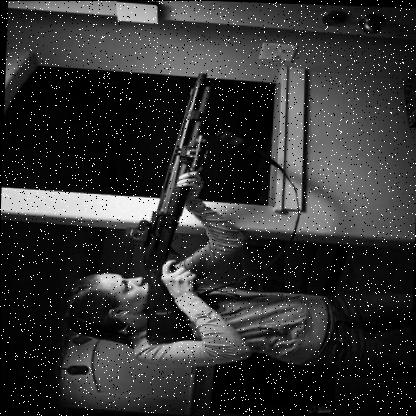rifle: (118, 65, 234, 349)
